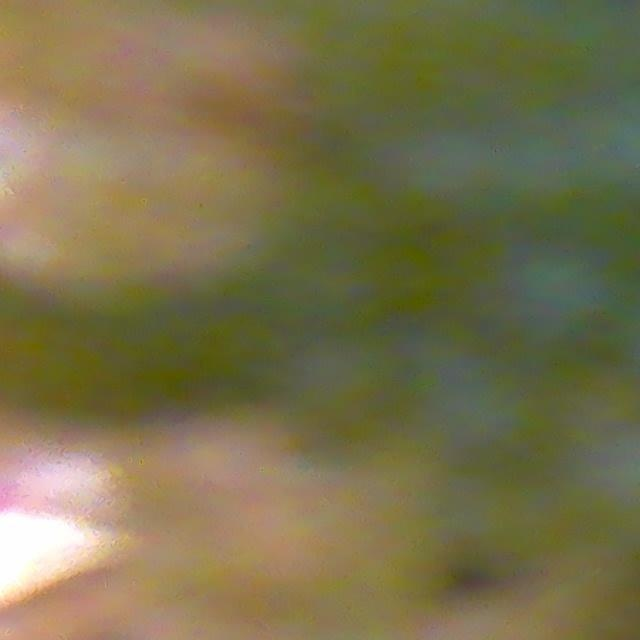SeaGrape: (480, 232, 636, 376)
